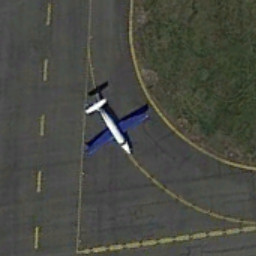Airplane: (74, 89, 156, 170)
